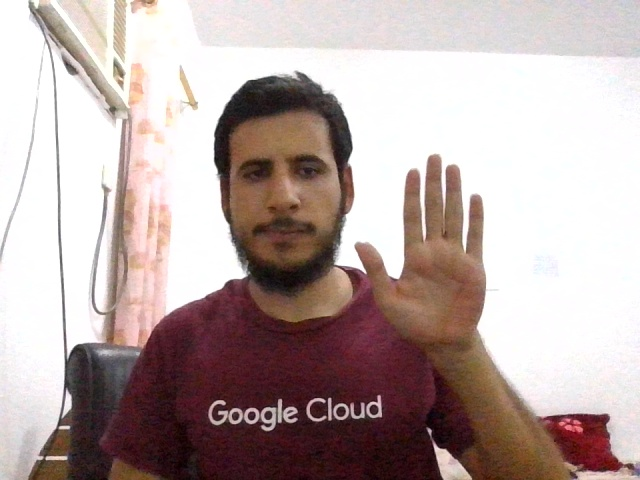Five: (355, 154, 486, 346)
